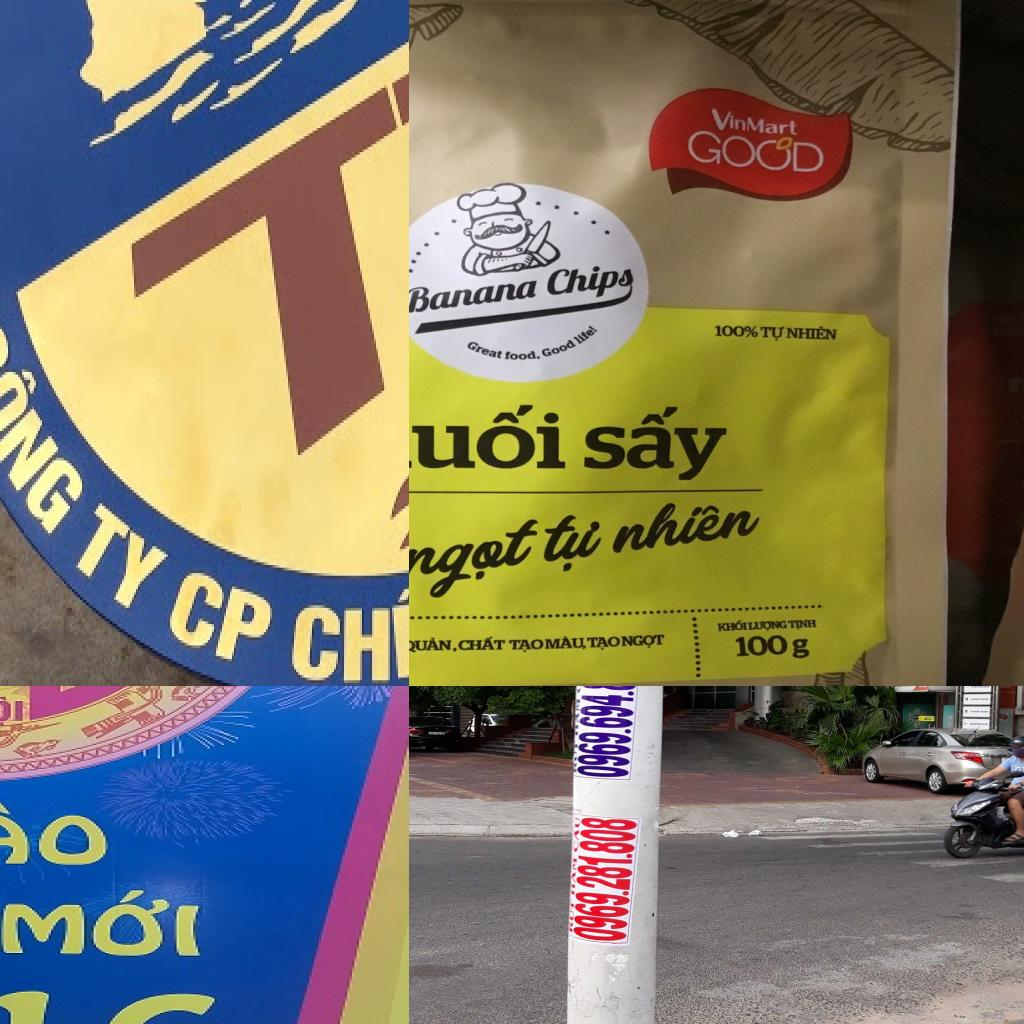text: (102, 0, 409, 541), (0, 302, 96, 548), (68, 487, 178, 624), (0, 888, 212, 958), (286, 567, 409, 686), (164, 560, 282, 678), (578, 404, 734, 484), (409, 515, 539, 603), (409, 400, 567, 471), (610, 495, 761, 557), (570, 815, 640, 948), (0, 802, 115, 867), (687, 129, 826, 176), (575, 686, 639, 780), (409, 277, 539, 317), (539, 510, 613, 574), (544, 260, 634, 306), (710, 108, 802, 136), (734, 633, 790, 658), (785, 323, 840, 342), (409, 635, 459, 654), (0, 695, 27, 729), (540, 337, 578, 360), (465, 340, 504, 362), (621, 633, 666, 650), (457, 636, 507, 651), (544, 634, 588, 651), (571, 323, 601, 347), (711, 324, 761, 338), (587, 635, 621, 653), (747, 619, 788, 633), (507, 639, 543, 654), (716, 618, 751, 632), (504, 349, 543, 361), (760, 325, 786, 343), (786, 618, 820, 631), (790, 638, 810, 660), (1000, 686, 1012, 690), (917, 686, 927, 689), (896, 686, 910, 688), (948, 686, 955, 688)
